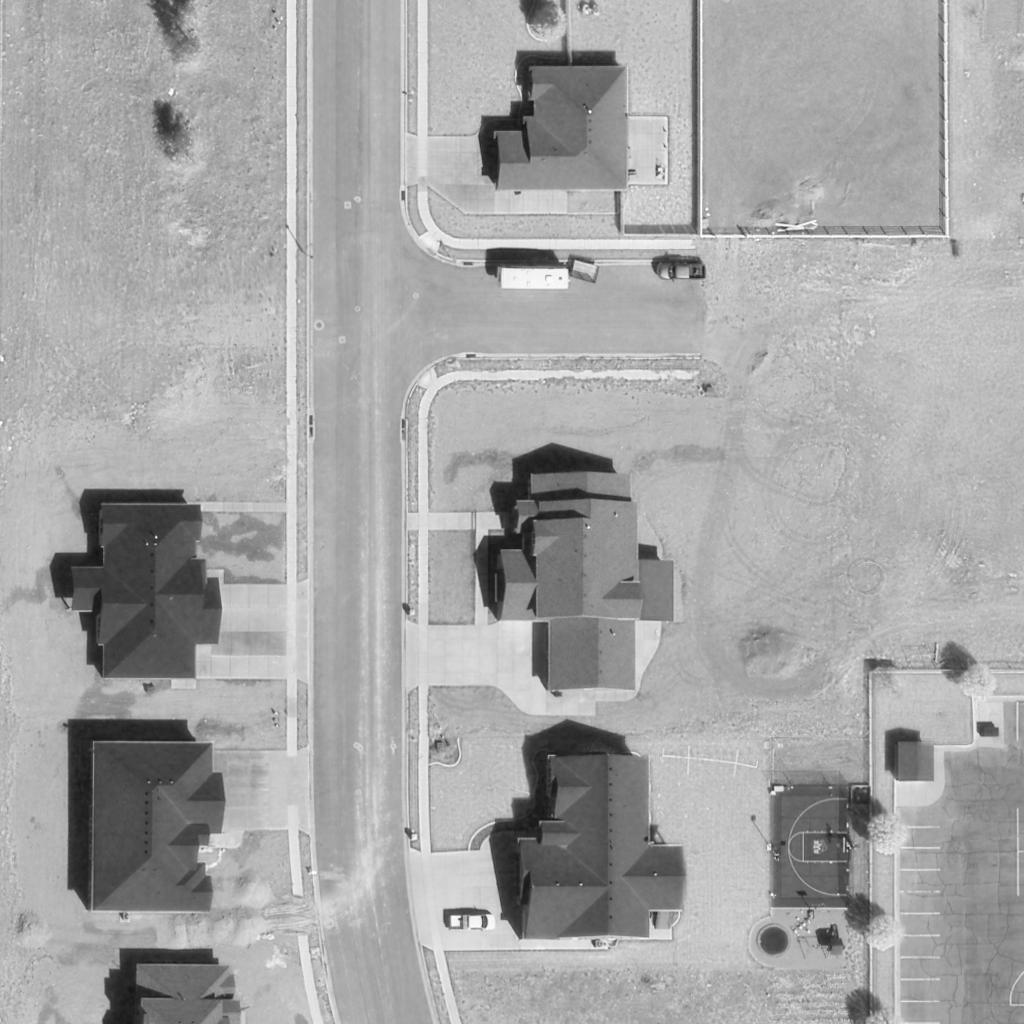vehicle: (496, 267, 570, 289), (448, 914, 498, 932), (657, 264, 707, 280)
